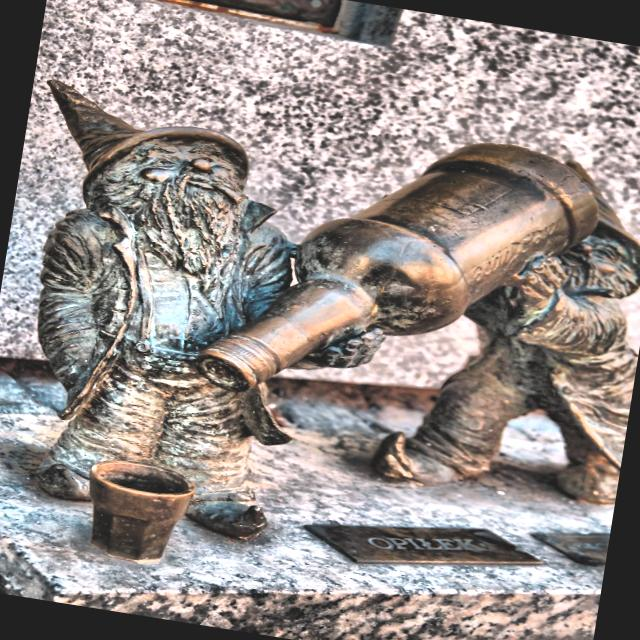Ogorzalek_i_Opilek: (33, 80, 640, 539)
